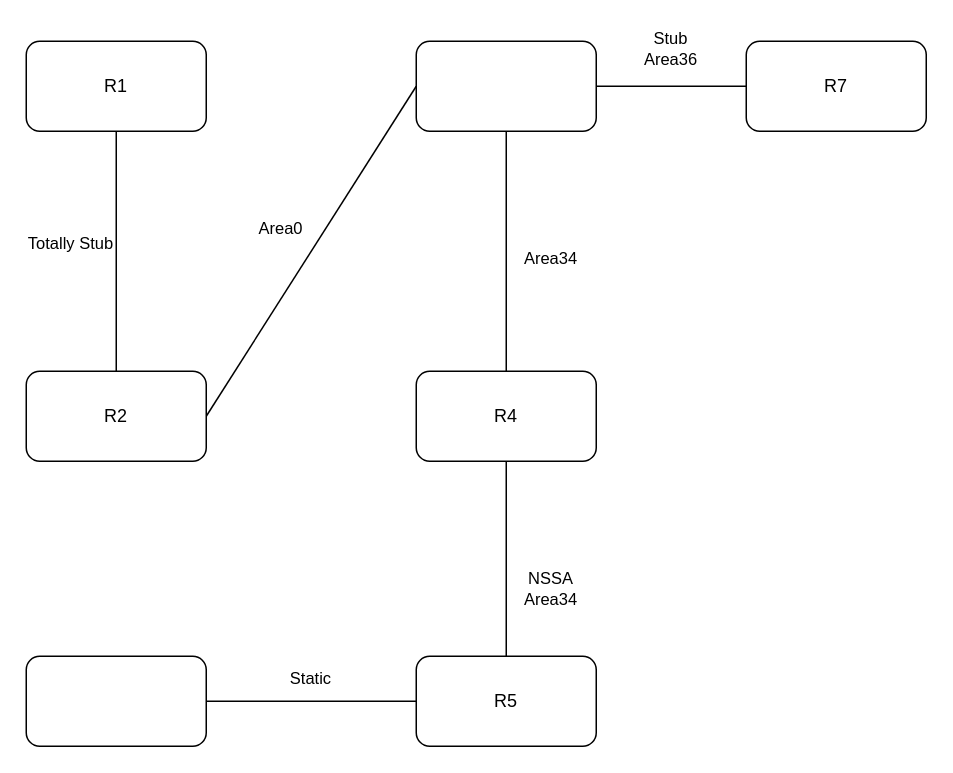
Some shapes in this 953 by 773 pixel diagram are drawn without their labels. Here are the shapes that lost their labels. From the top down, the centre of each, then its label:
At pixel 505 85: "R3".
At pixel 115 700: "R6".
